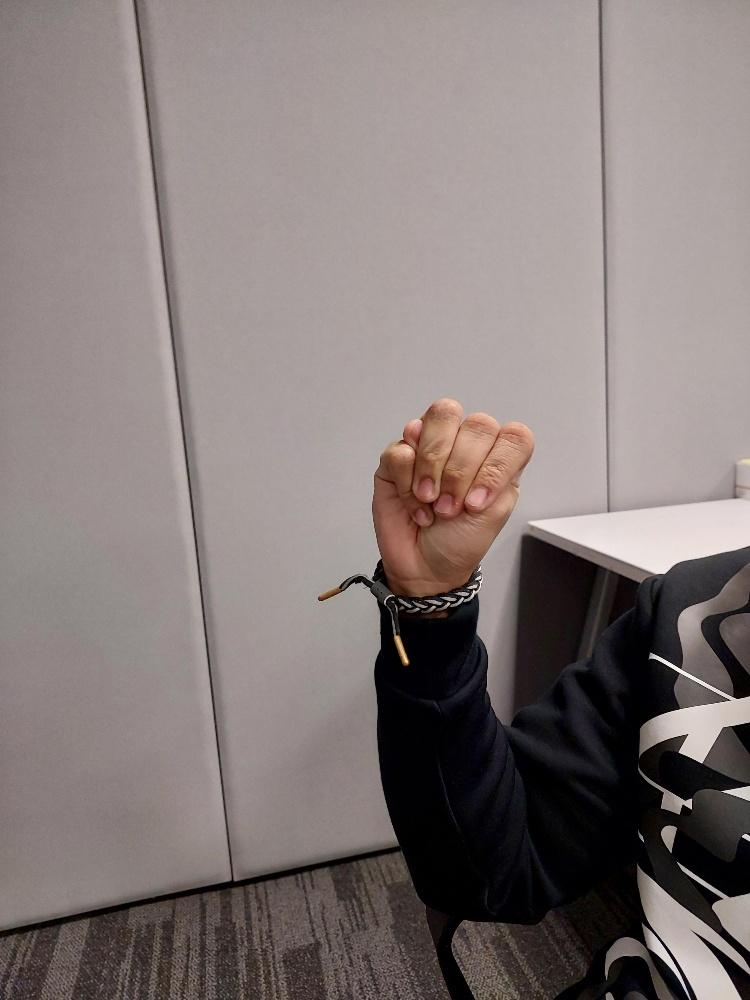m: (369, 393, 534, 576)
